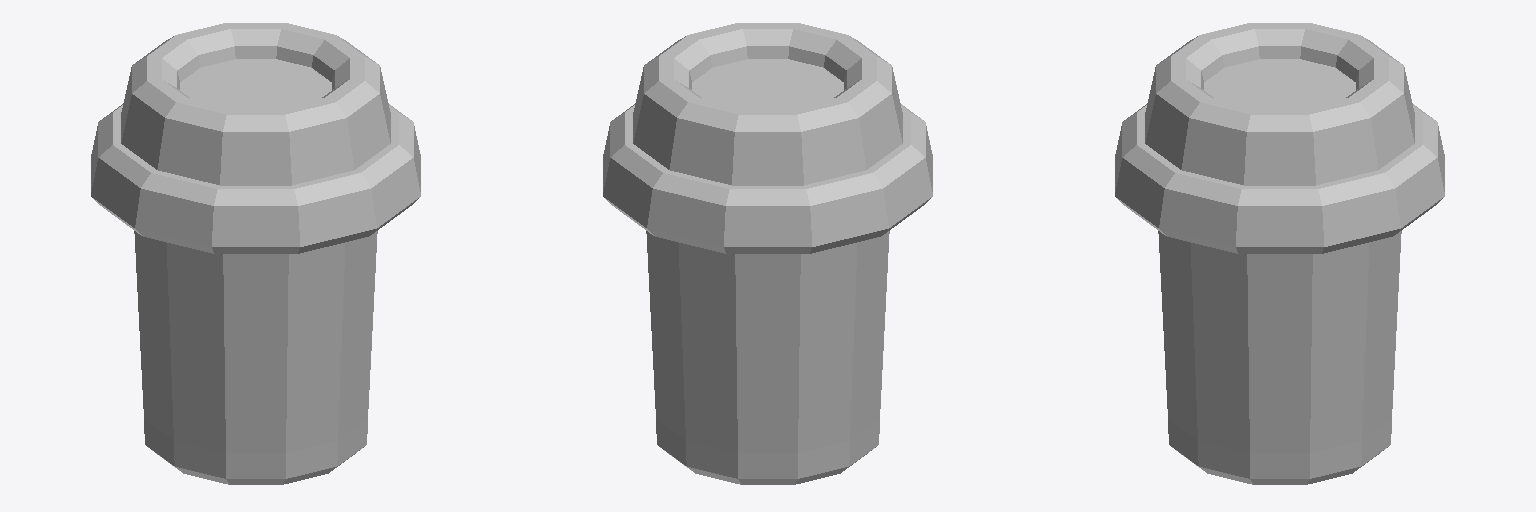
File: coffee_cup_takeaway.obj
The picture shows the model from 3 angles: view 1: azimuth 30°, elevation 25°; view 2: azimuth 150°, elevation 25°; view 3: azimuth 270°, elevation 25°; orthographic projection.
Parts seen in each view (by area): view 1: coffee_cup_takeaway; view 2: coffee_cup_takeaway; view 3: coffee_cup_takeaway.
Part boxes in pixels (left/top/right/bottom): coffee_cup_takeaway: left=91, top=23, right=420, bottom=484; coffee_cup_takeaway: left=603, top=23, right=932, bottom=484; coffee_cup_takeaway: left=1115, top=23, right=1444, bottom=484.
Bounding box in the file's own units: 0.4 × 0.5 × 0.4.